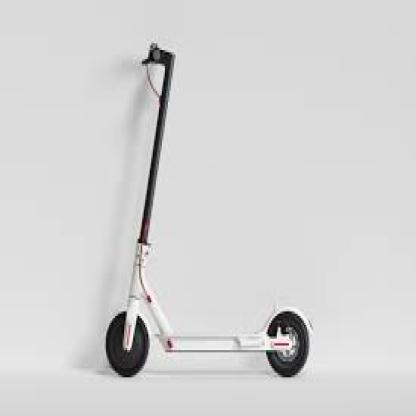kickboard: (97, 30, 314, 386)
